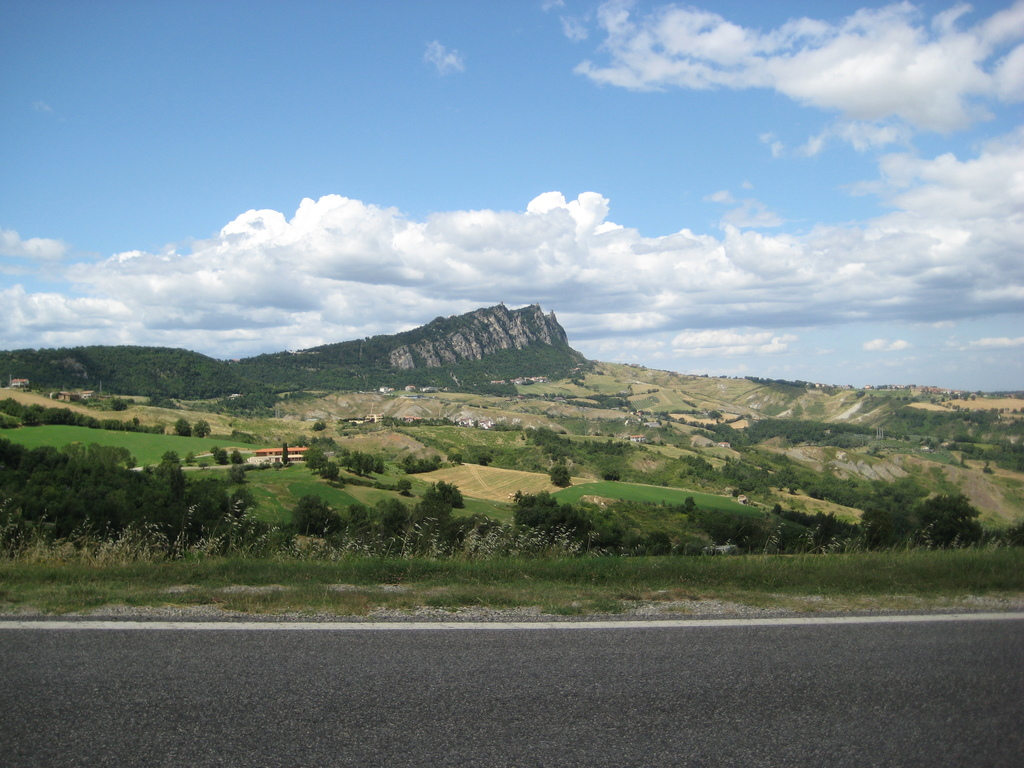Tree: (0, 341, 504, 420), (0, 425, 278, 556), (510, 492, 672, 556), (672, 445, 863, 499), (408, 471, 471, 558), (513, 424, 638, 466), (281, 487, 344, 560), (766, 504, 859, 551), (916, 489, 982, 554), (339, 497, 408, 555), (855, 494, 917, 555), (448, 510, 507, 560), (544, 458, 573, 489), (296, 444, 326, 473), (316, 460, 343, 486), (229, 447, 241, 467)
